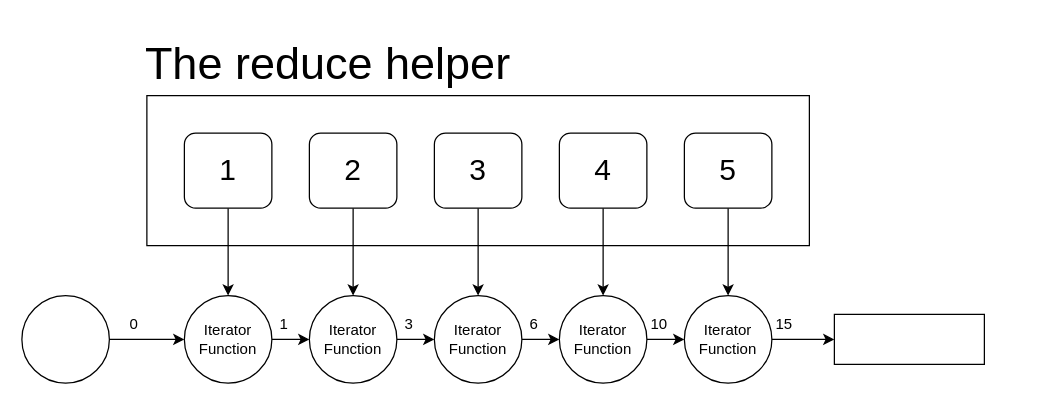
Some shapes in this 1038 by 405 pixel diagram are drawn without their labels. The shapes that lost their labels are listed below. From the top down, each one's box as (x1, y1, x2, y2) in pixels, then its label:
(21, 294, 109, 383): Initial value
(833, 313, 984, 364): Result = 15
